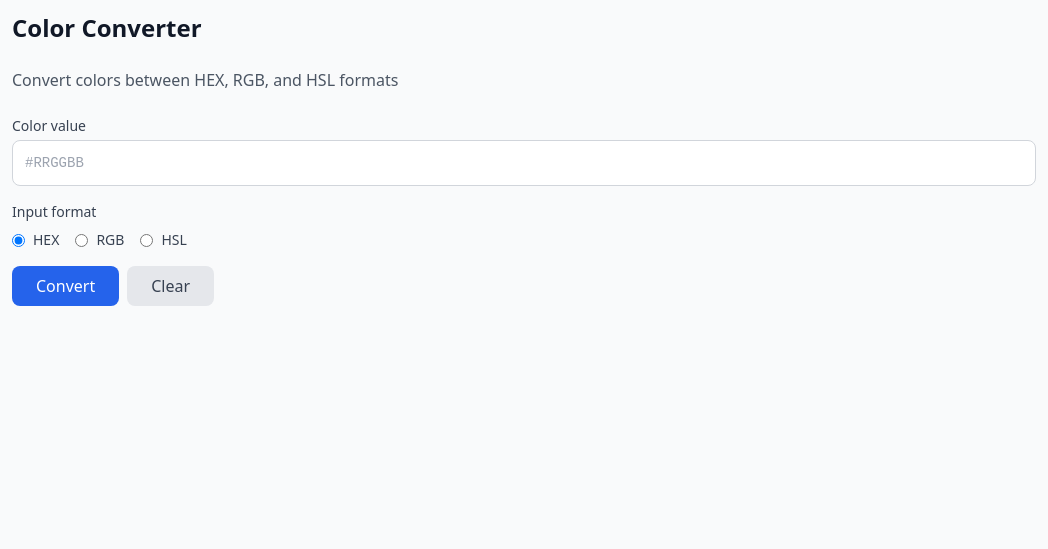
Scenario: ColorConverter › converts HEX to other formats
In the field with placeholder "#RRGGBB": (524, 163) top-left (12, 140), bottom-right (1036, 186), type "#ff0000"
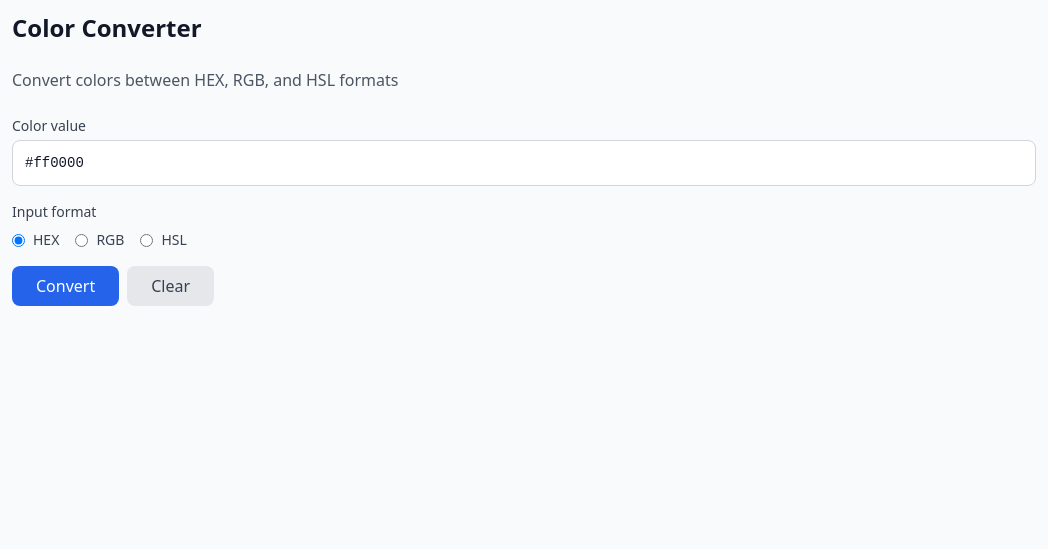
Click the button "Convert": (66, 286) top-left (12, 266), bottom-right (119, 306)
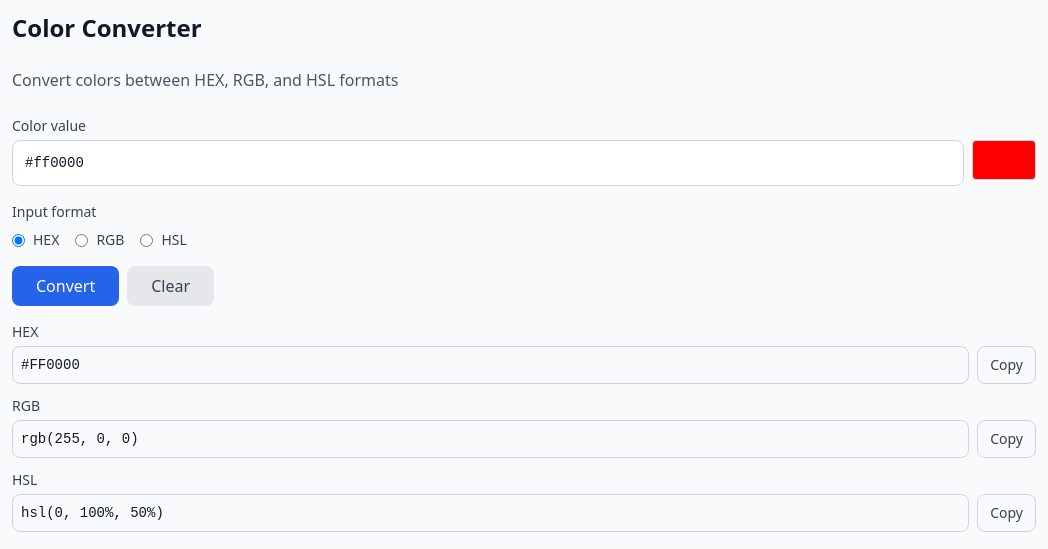
Expected: the 1st field showing "#FF0000" is shown, top-left (12, 346), bottom-right (969, 384)
